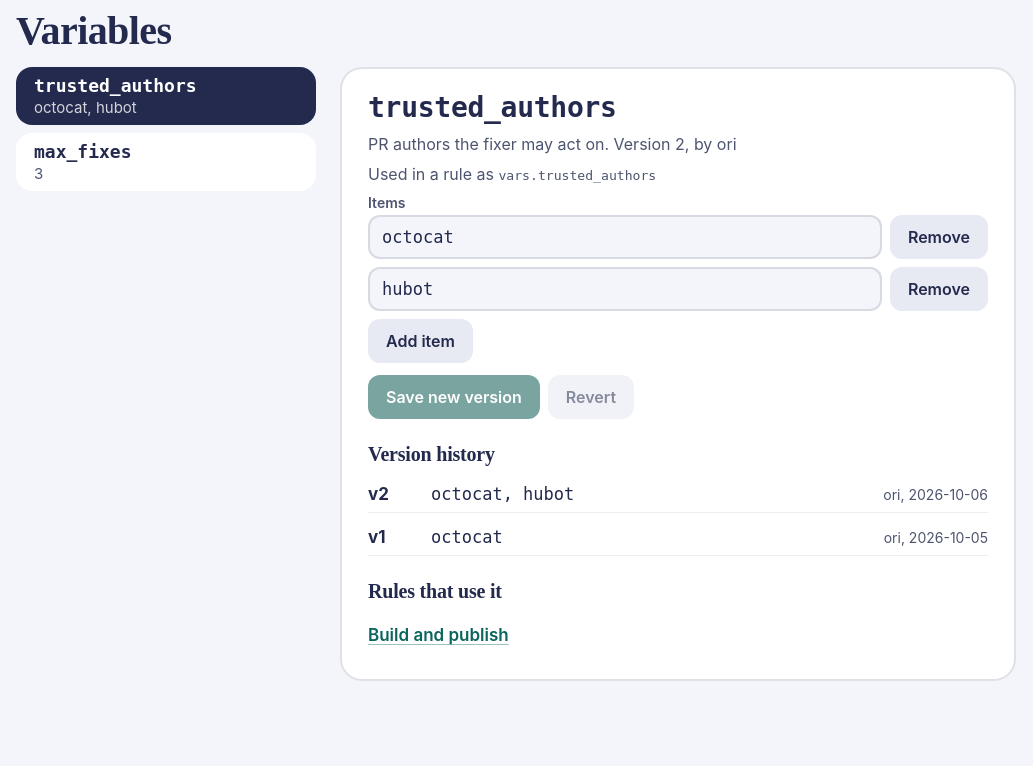
Variables tab › says in plain words when a save is refused
Type "x" into the field named "Item 2" at (625, 289), box x1=368 y1=267 x2=882 y2=311
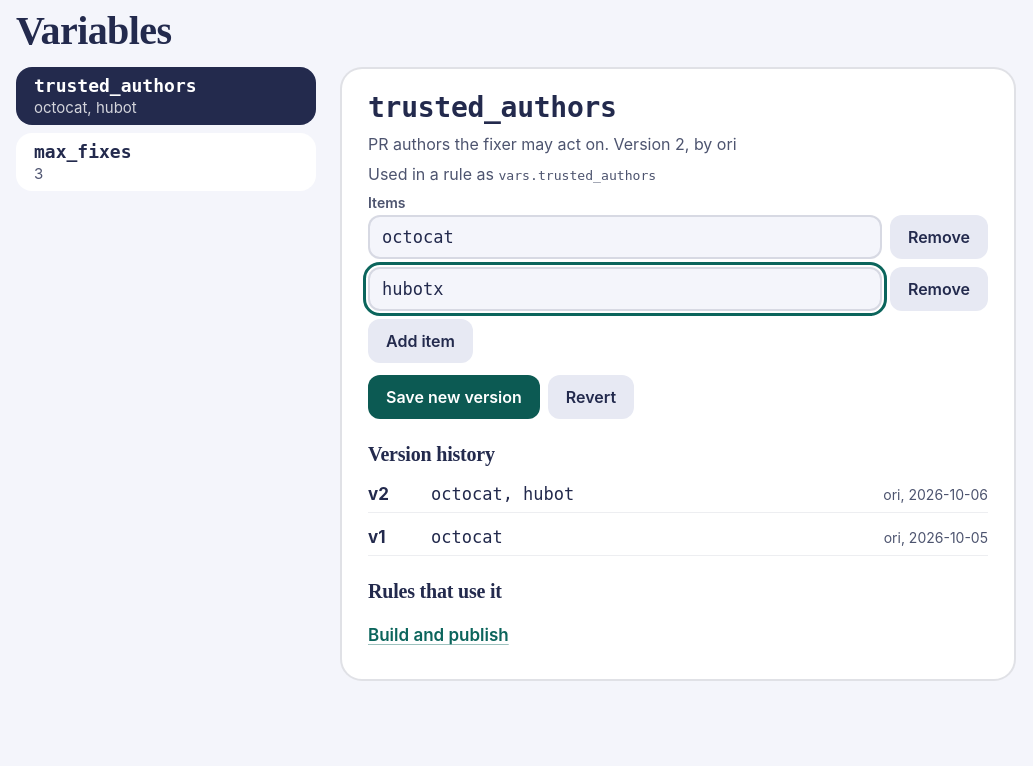
Click the button "Save new version" at (454, 397), box x1=368 y1=375 x2=540 y2=419
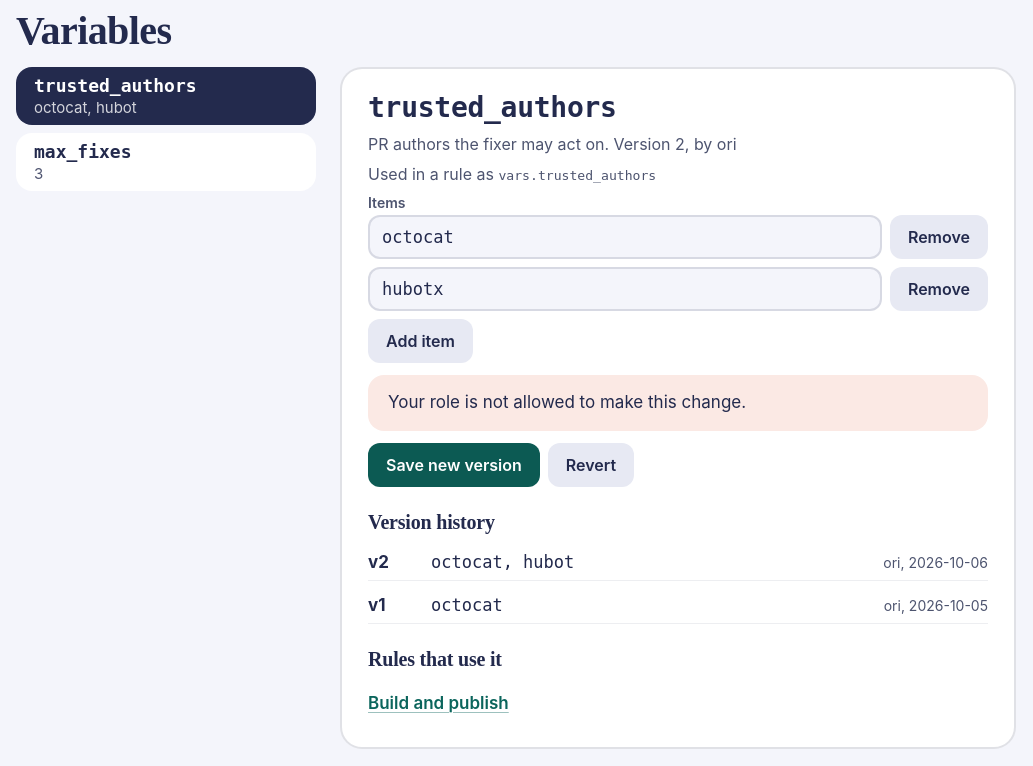
expect the message does not show "raw": met, box x1=368 y1=375 x2=988 y2=431
expect the message shows "Your role is not allowed": met, box x1=388 y1=392 x2=746 y2=412
